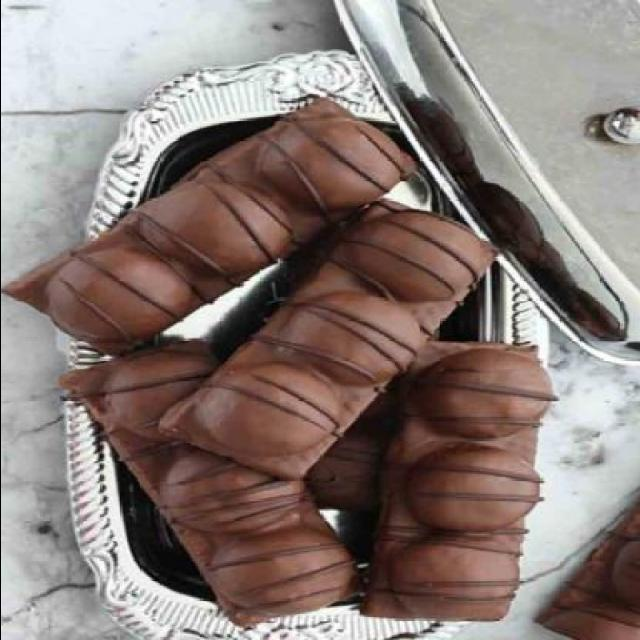Chocolate bar packaged: (1, 92, 414, 356), (153, 200, 502, 484), (70, 339, 352, 630), (358, 338, 552, 626)
